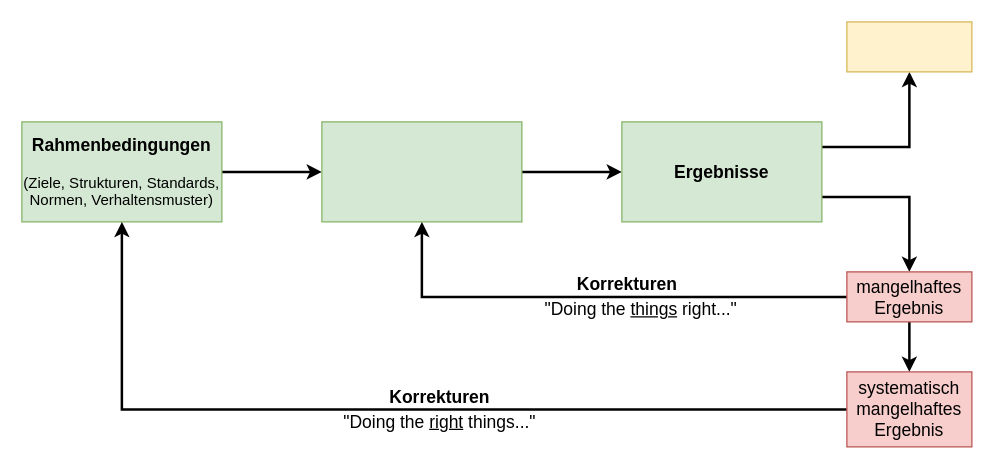
This 994x469 diagram has some shape labels left out. The shapes that lost their labels are listed below. From the top down, each one's box as (x1, y1, x2, y2) in pixels, then its label:
(846, 21, 972, 72): gewünschtes Ergebnis
(321, 121, 522, 222): Handlungen
